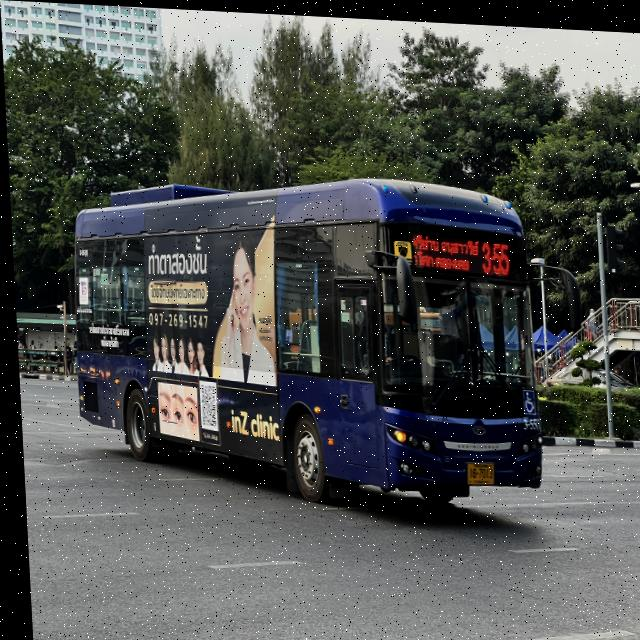Bus-Line-Number: (478, 231, 511, 274)
Destination-Sign-Normal: (408, 223, 479, 275)
TSB-Bus: (62, 162, 542, 511)
